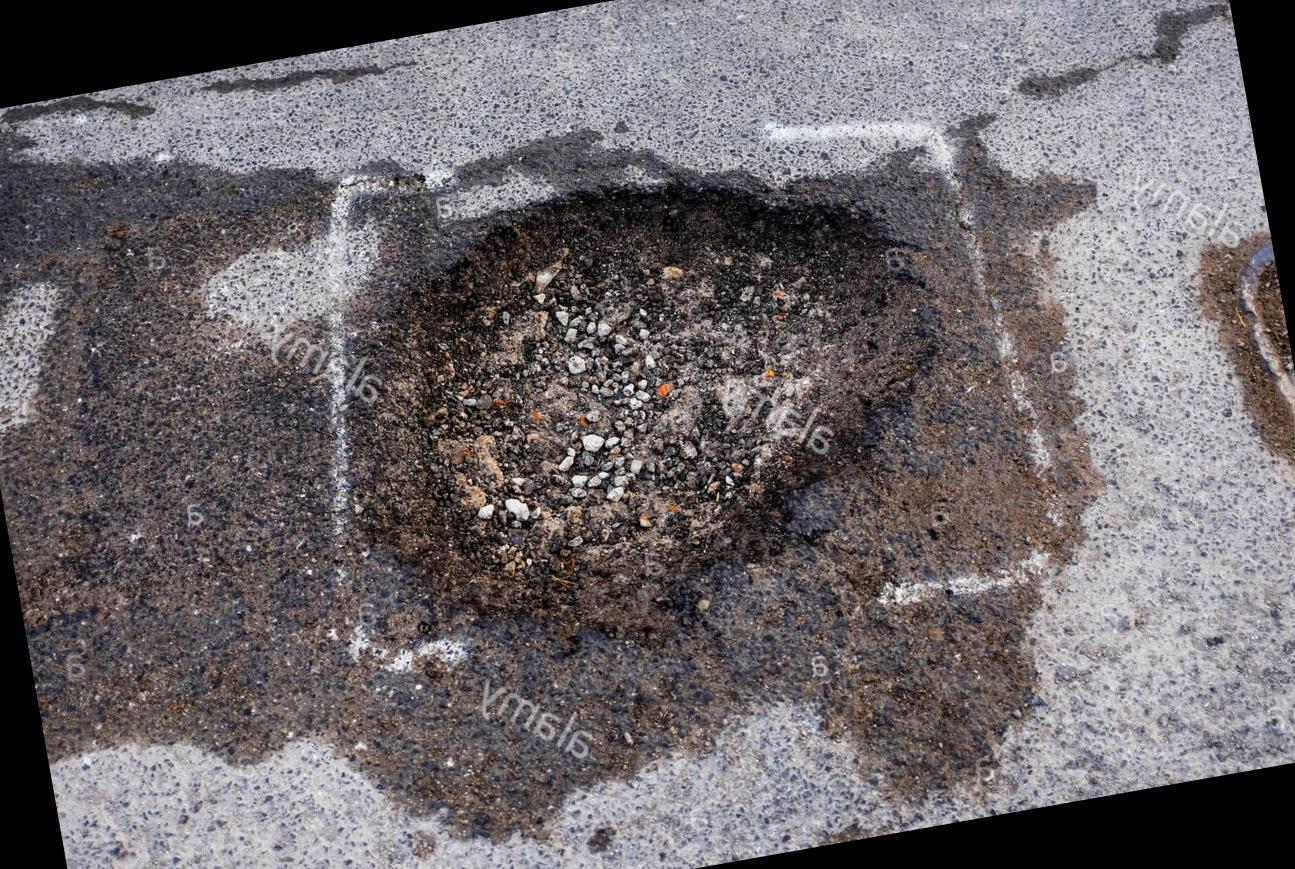pothole: (278, 86, 1016, 700), (1155, 208, 1295, 528)
